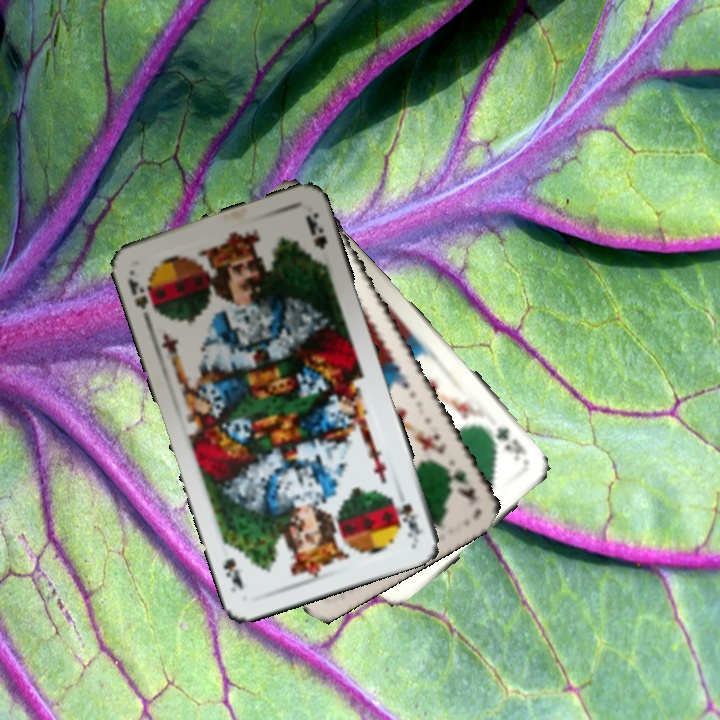GK: (439, 459, 479, 505), (492, 423, 529, 463)
SK: (395, 499, 427, 541), (124, 274, 151, 312)
